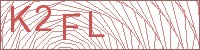2: (34, 3, 54, 33)
F: (60, 12, 83, 42)
K: (8, 4, 32, 34)
L: (86, 9, 106, 39)
